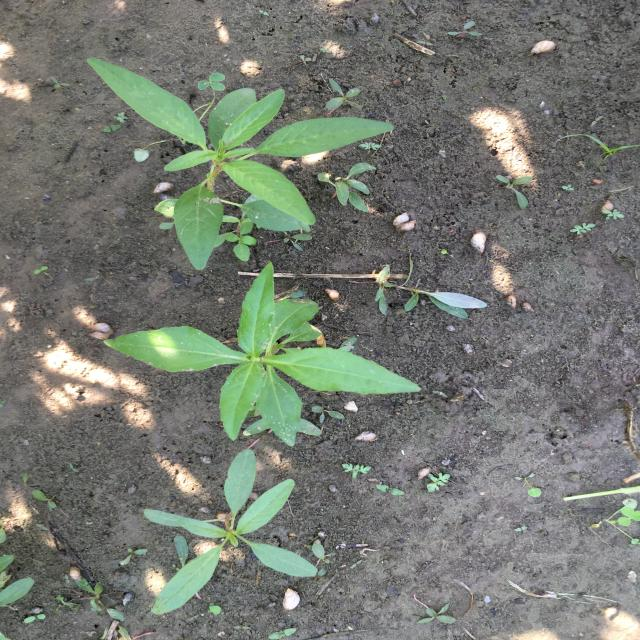Eclipta: (100, 260, 424, 448)
Waterhemp: (84, 55, 398, 273), (141, 448, 320, 616)
